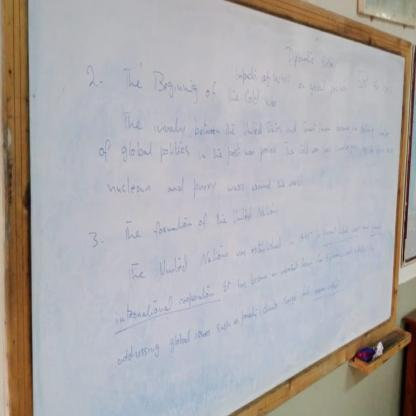Handwritten text: (102, 231, 349, 334), (106, 267, 319, 375), (115, 182, 287, 253), (120, 219, 298, 287), (92, 124, 362, 168), (113, 63, 282, 125), (103, 160, 311, 203), (121, 104, 335, 137), (229, 59, 354, 103), (277, 39, 345, 75), (352, 60, 371, 98)
Whiteboard: (17, 0, 412, 416)
